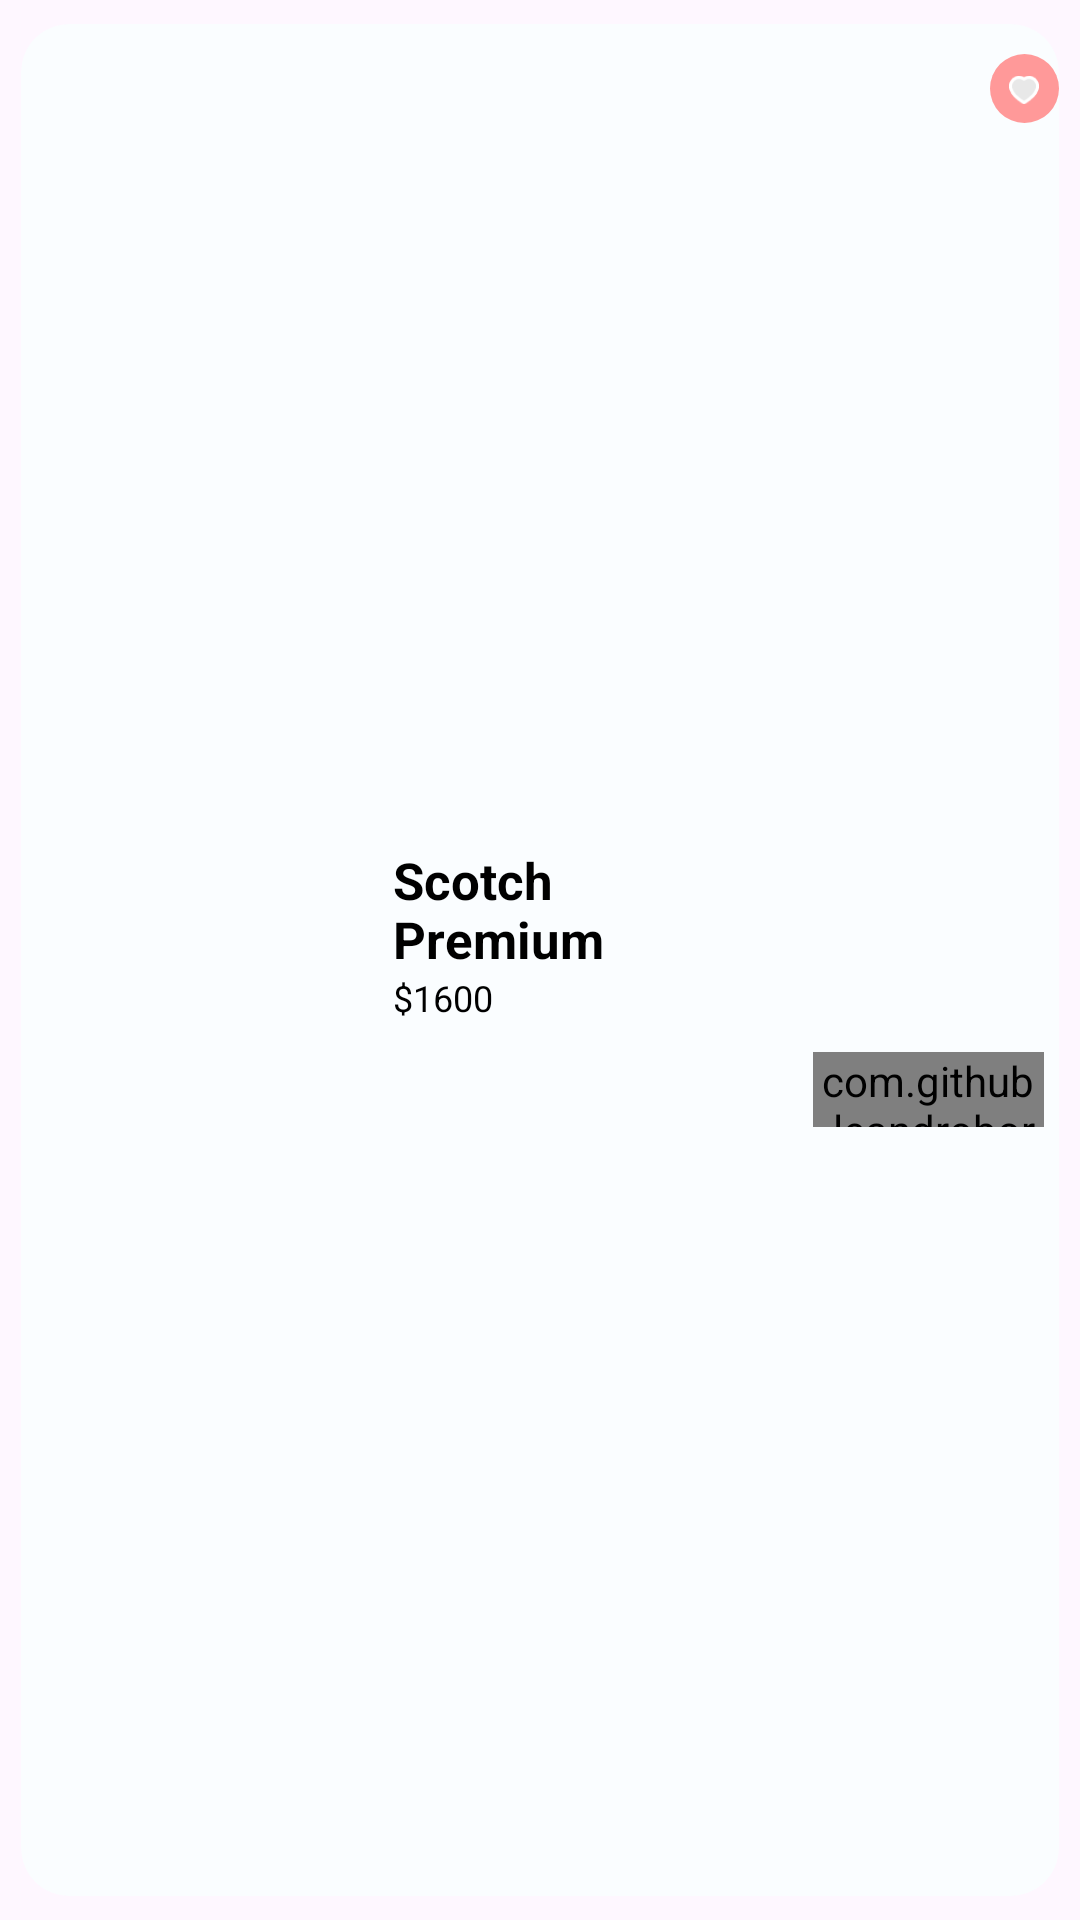

Icons on this 1080×1920 Android screen, each with the point to tap as [x,y]:
favorite: [1024,90]
